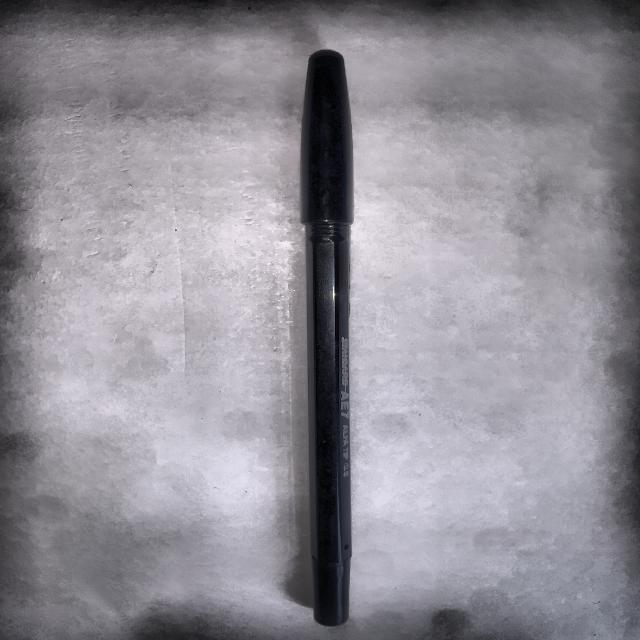Pulpen: (294, 45, 382, 639)
